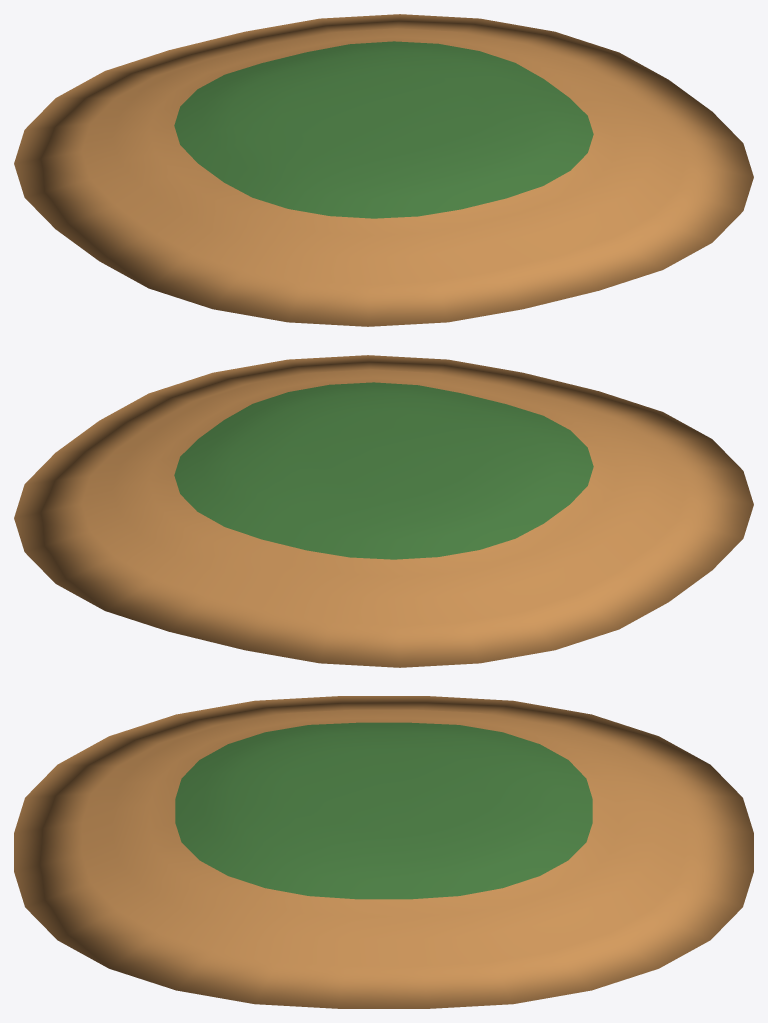
File: island_otherPortals.fbx
3 renders of one model, top to bottom at view 1: azimuth 30°, elevation 25°; view 2: azimuth 150°, elevation 25°; view 3: azimuth 270°, elevation 25°, orthographic. The views are drawn at different scales.
Parts seen in each view (by area): view 1: island_otherPortals; view 2: island_otherPortals; view 3: island_otherPortals.
Part boxes in pixels (x1,y1,x2,y2): island_otherPortals: (14,14,753,326); island_otherPortals: (14,355,753,667); island_otherPortals: (14,696,753,1008).
Bounding box in the file's own units: 428 × 428 × 38.38.
